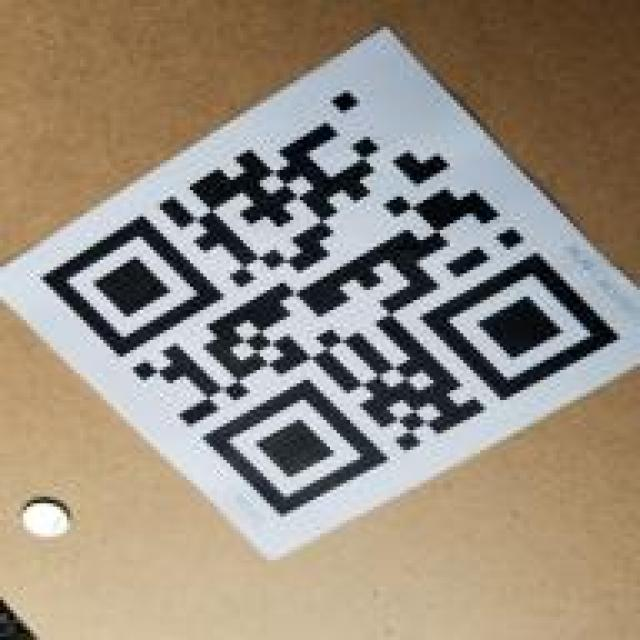QR_CODE: (29, 83, 624, 530)
